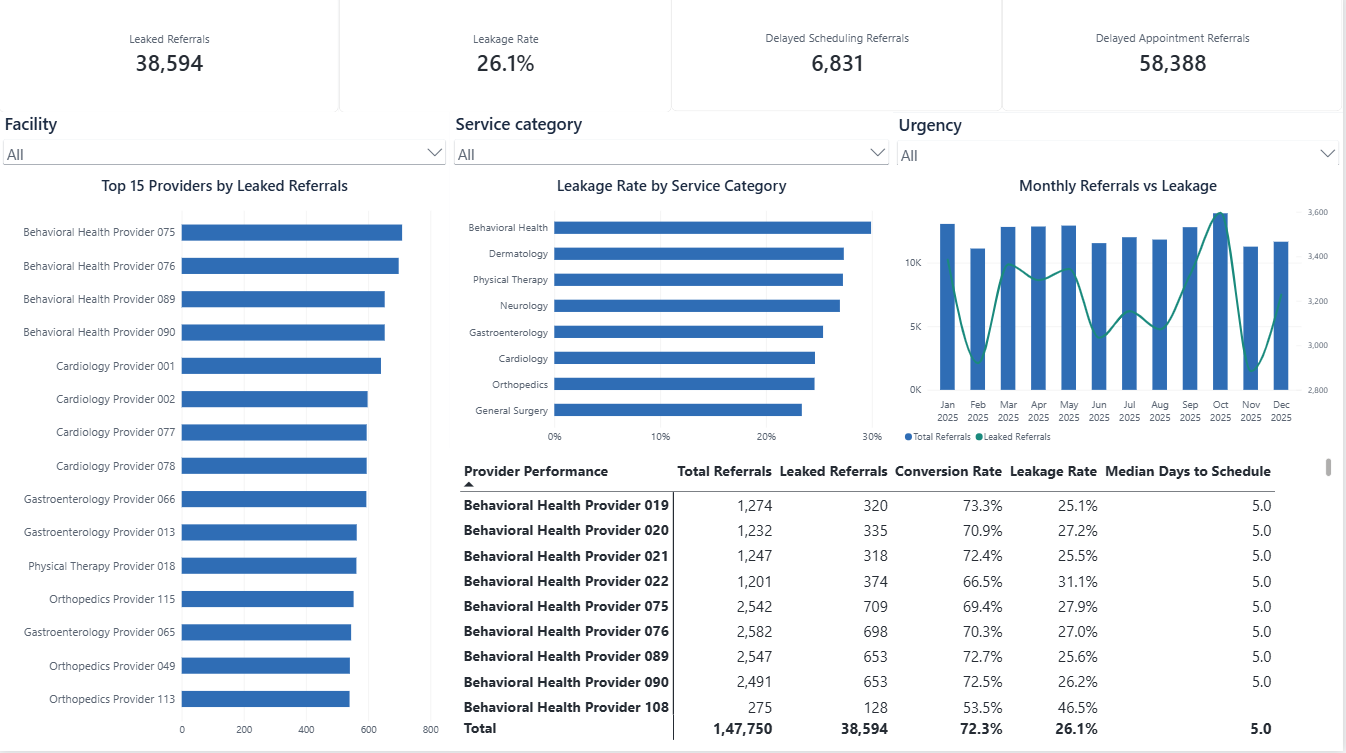

The dashboard page shown, as its layout file describes it:
{"tool":"powerbi","page":{"name":"Leakage & Service Performance","canvas":[1920,1080],"ordinal":1},"visuals":[{"type":"cardVisual","fields":{"Data":["Referrals.Leaked Referrals"]},"box":[0,0,485,168.3],"z":0},{"type":"cardVisual","fields":{"Data":["Referrals.Leakage Rate"]},"box":[485,0,475,168.3],"z":1000},{"type":"cardVisual","fields":{"Data":["Referrals.Delayed Scheduling Referrals"]},"box":[960,0,473.3,166.7],"z":2000},{"type":"cardVisual","fields":{"Data":["Referrals.Delayed Appointment Referrals"]},"box":[1433.3,0,486.7,166.7],"z":3000},{"type":"slicer","title":"Facilities Name","fields":{"Values":["Facilities.facility_name"]},"box":[0,167.1,644.3,75.7],"z":4000},{"type":"slicer","fields":{"Values":["ServiceCategories.service_category_name"]},"box":[643.6,166.7,632.8,75.6],"z":5000},{"type":"slicer","fields":{"Values":["Referrals.urgency"]},"box":[1277.1,168.6,642.9,75.7],"z":6000},{"type":"clusteredBarChart","title":"Top 15 Providers by Leaked Referrals","fields":{"Category":["Providers.provider_name"],"Y":["Referrals.Leaked Referrals"]},"box":[0,242.9,644.3,837.1],"z":7000},{"type":"clusteredBarChart","title":"Leakage Rate by Service Category","fields":{"Category":["ServiceCategories.service_category_name"],"Y":["Referrals.Leakage Rate"]},"box":[644.3,242.9,632.9,418.6],"z":8000},{"type":"lineClusteredColumnComboChart","title":"Monthly Referrals vs Leakage","fields":{"Category":["Date.year_month"],"Y":["Referrals.Total Referrals"],"Y2":["Referrals.Leaked Referrals"]},"box":[1277.1,242.9,642.9,418.6],"z":9000},{"type":"pivotTable","fields":{"Rows":["Providers.provider_name"],"Values":["Referrals.Total Referrals","Referrals.Leaked Referrals","Referrals.Conversion Rate","Referrals.Leakage Rate","Referrals.Median Days to Schedule"]},"box":[643.3,646.7,1276.7,433.3],"z":10000}]}

Visuals, with their boxes in screenshot pixels (x1, y1, x2, y2), scaled from the page's 1920x1080 canvas onto the 1346x753 screenshot:
cardVisual - Referrals.Leaked Referrals: left=0, top=0, right=340, bottom=117
cardVisual - Referrals.Leakage Rate: left=340, top=0, right=673, bottom=117
cardVisual - Referrals.Delayed Scheduling Referrals: left=673, top=0, right=1005, bottom=116
cardVisual - Referrals.Delayed Appointment Referrals: left=1005, top=0, right=1345, bottom=116
"Facilities Name" slicer: left=0, top=117, right=452, bottom=169
slicer - ServiceCategories.service_category_name: left=451, top=116, right=895, bottom=169
slicer - Referrals.urgency: left=895, top=118, right=1345, bottom=170
"Top 15 Providers by Leaked Referrals" clusteredBarChart: left=0, top=169, right=452, bottom=752
"Leakage Rate by Service Category" clusteredBarChart: left=452, top=169, right=895, bottom=461
"Monthly Referrals vs Leakage" lineClusteredColumnComboChart: left=895, top=169, right=1345, bottom=461
pivotTable - Providers.provider_name x Referrals.Total Referrals: left=451, top=451, right=1345, bottom=752
